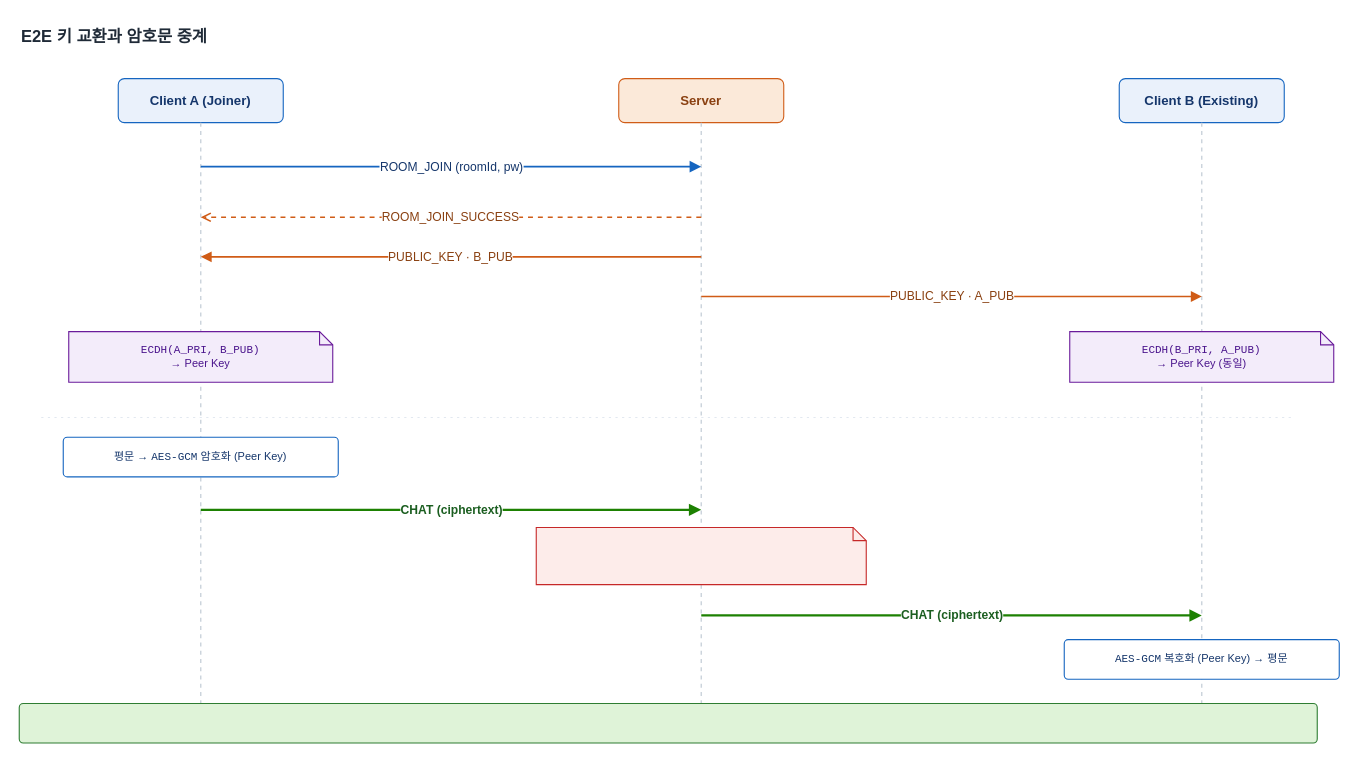
The diagram is 1359 pixels wide and 762 high, and some of its shapes have lost their labels. Each missing label, with the centre of its shape:
"ChatLog 저장 + 브로드캐스트 Peer Key·평문 없음 → 복호화 불가" belongs at point (700, 555).
"서버는 Peer 키가 없어 종단 메시지 평문을 알 수 없다 — E2EE" belongs at point (667, 722).
